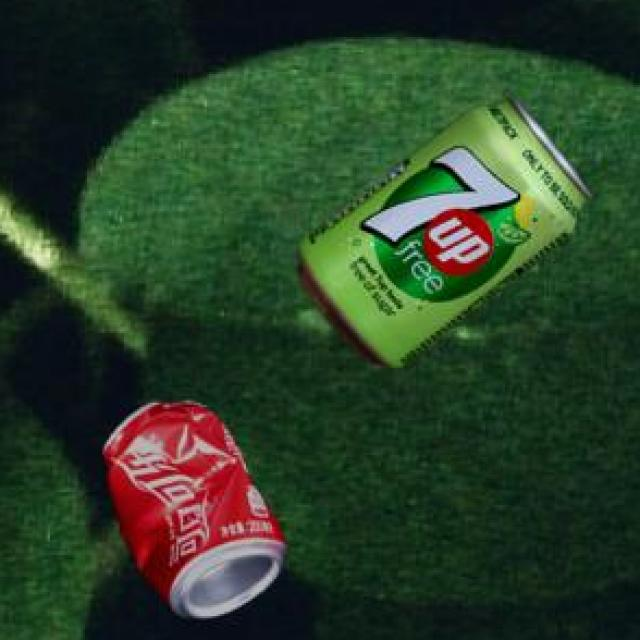logam: (301, 99, 595, 371), (108, 404, 291, 621)
